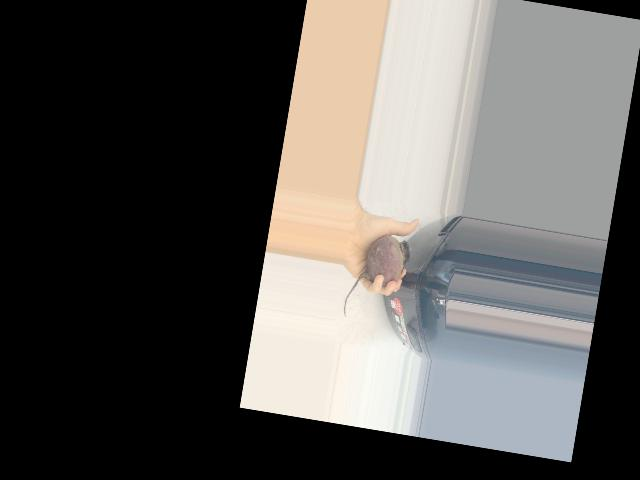beet: (341, 230, 412, 325)
